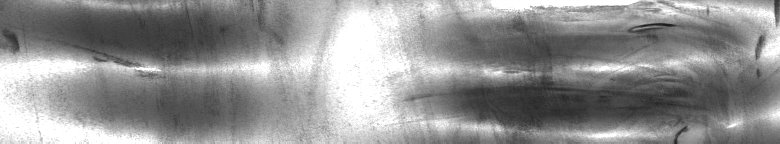ke: (466, 4, 776, 136)
